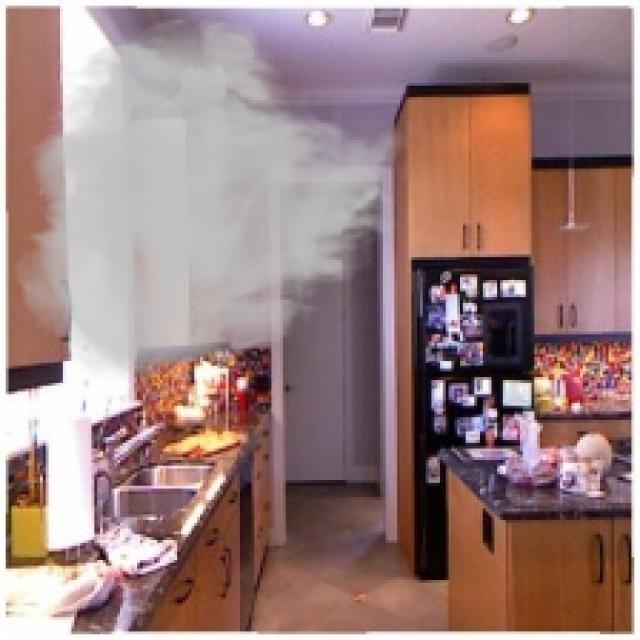smoke: (11, 14, 412, 383)
